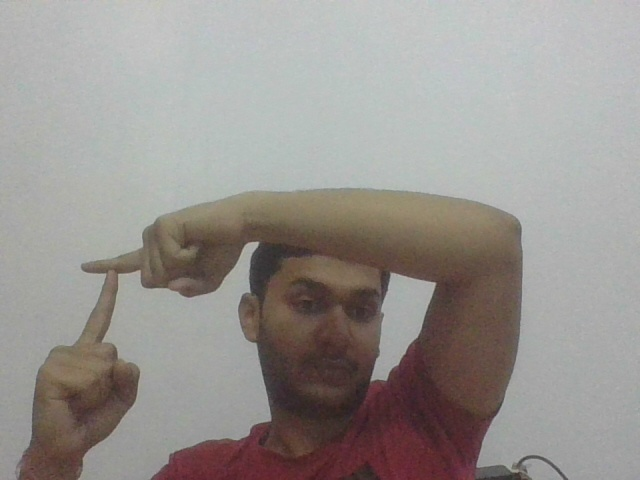T: (78, 243, 139, 342)
